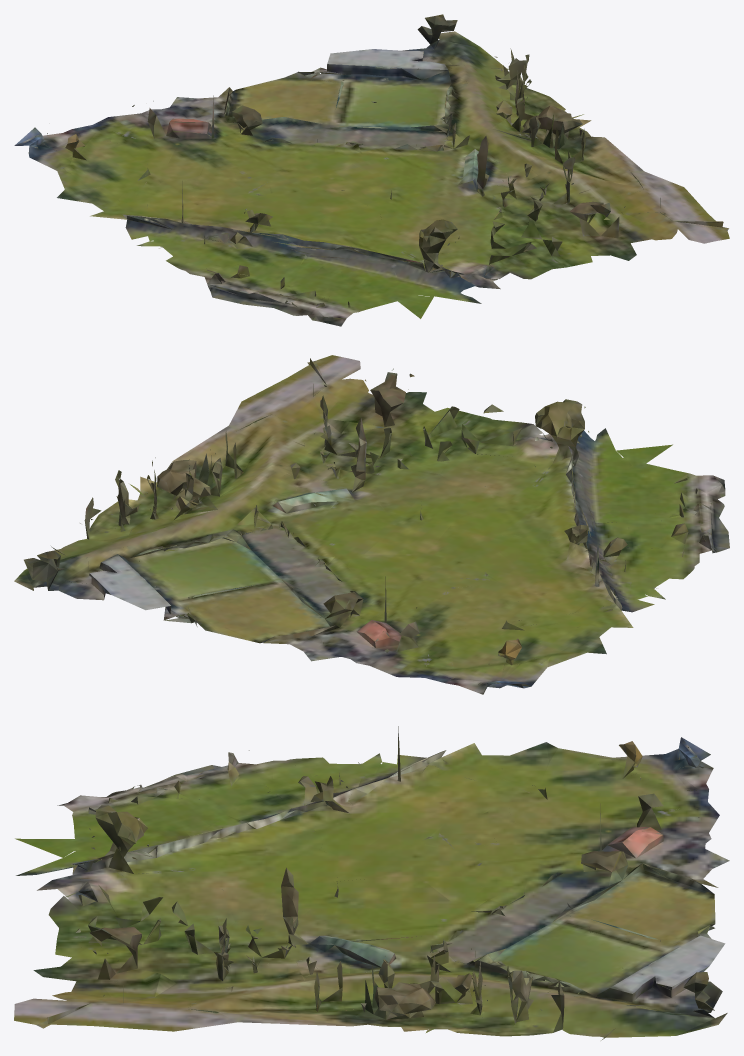
File: Tile_008_009_L16.gltf
The picture shows the model from 3 angles, top to bottom: view 1: azimuth 30°, elevation 25°; view 2: azimuth 150°, elevation 25°; view 3: azimuth 270°, elevation 25°; orthographic projection. The views are drawn at different scales.
Visible parts, largest first — view 1: Tile_+008_+009_L16; view 2: Tile_+008_+009_L16; view 3: Tile_+008_+009_L16.
Part boxes in pixels (x1,y1,x2,y2): Tile_+008_+009_L16: (14, 14, 729, 326); Tile_+008_+009_L16: (14, 355, 729, 694); Tile_+008_+009_L16: (14, 726, 729, 1040).
Bounding box in the file's own units: 224 × 29.67 × 230.
Materials: 1 (1 with a texture image).
